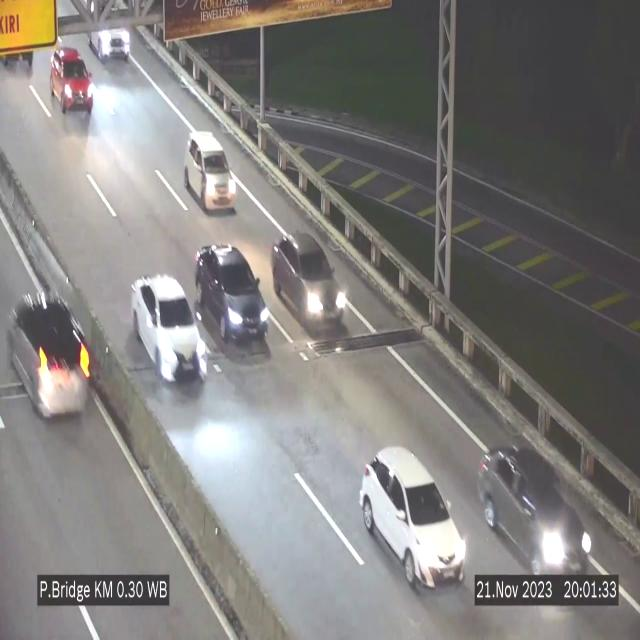Car: (1, 267, 96, 433), (360, 447, 466, 589), (477, 445, 593, 572), (269, 225, 347, 335), (132, 275, 208, 382), (195, 243, 269, 343), (184, 132, 236, 212), (51, 47, 94, 118), (88, 20, 134, 62)
